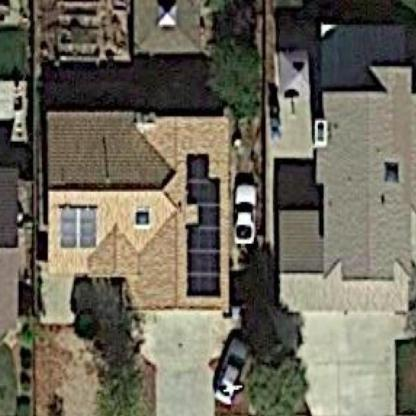car: (214, 318, 249, 404), (226, 175, 262, 250)
solar_panel: (177, 144, 226, 302), (56, 194, 103, 255)
